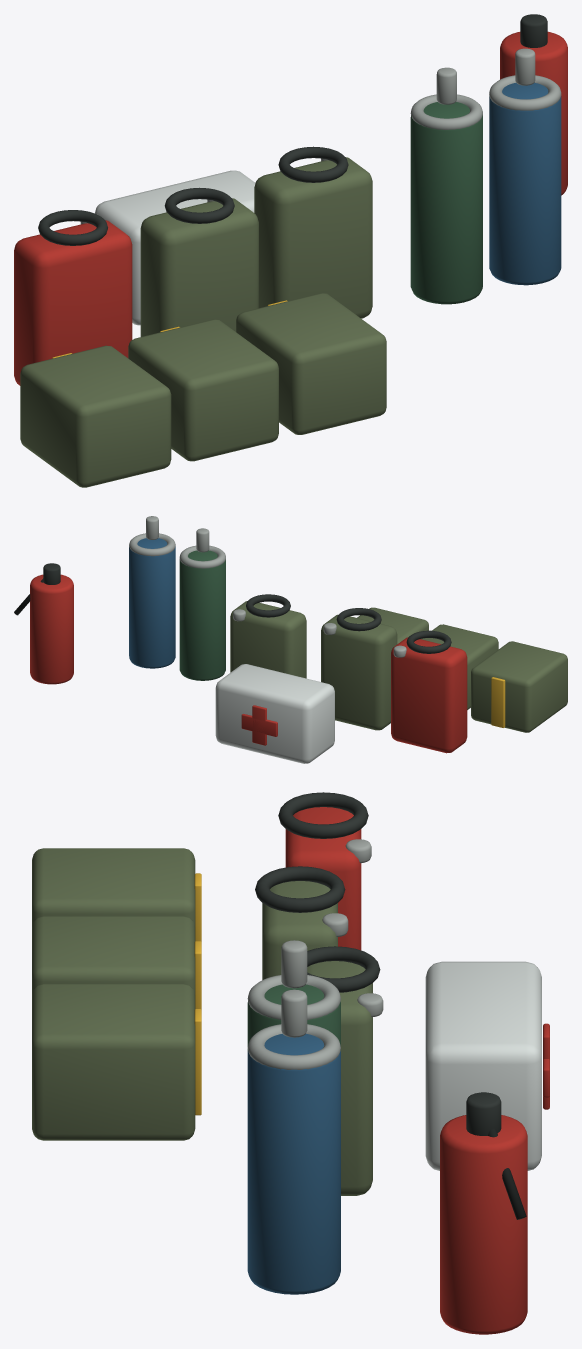
The model's file is survival_clutter_v3.glb.
3 renders of one model, top to bottom at view 1: azimuth 30°, elevation 25°; view 2: azimuth 150°, elevation 25°; view 3: azimuth 270°, elevation 25°, orthographic. The views are drawn at different scales.
Parts seen in each view (by area): view 1: RationCrate_0, JerryCan_2, RationCrate_1, RationCrate_2, JerryCan_0, GasBottle_0, GasBottle_1, JerryCan_1, MedCase, ExtinguisherBody, JerryHandle_2, JerryHandle_1 (+6 smaller); view 2: MedCase, JerryCan_0, JerryCan_1, RationCrate_0, GasBottle_0, GasBottle_1, ExtinguisherBody, JerryCan_2, RationCrate_1, RationCrate_2, RationBand_0, JerryHandle_2 (+7 smaller); view 3: RationCrate_2, GasBottle_1, MedCase, ExtinguisherBody, RationCrate_1, RationCrate_0, JerryCan_2, JerryCan_0, JerryCan_1, JerryHandle_0, JerryHandle_1, GasShoulder_1 (+7 smaller).
Part boxes in pixels (left/top/right/bottom): RationCrate_0: left=20, top=345, right=171, bottom=487; JerryCan_2: left=254, top=157, right=372, bottom=318; RationCrate_1: left=128, top=319, right=278, bottom=461; RationCrate_2: left=236, top=293, right=386, bottom=434; JerryCan_0: left=14, top=220, right=132, bottom=385; GasBottle_0: left=410, top=102, right=482, bottom=304; GasBottle_1: left=489, top=82, right=561, bottom=285; JerryCan_1: left=140, top=198, right=258, bottom=336; MedCase: left=95, top=170, right=255, bottom=325; ExtinguisherBody: left=500, top=31, right=567, bottom=195; JerryHandle_2: left=278, top=146, right=348, bottom=182; JerryHandle_1: left=164, top=187, right=234, bottom=223; MedCase: left=215, top=664, right=334, bottom=763; JerryCan_0: left=391, top=637, right=467, bottom=753; JerryCan_1: left=321, top=614, right=397, bottom=730; RationCrate_0: left=471, top=641, right=567, bottom=732; GasBottle_0: left=179, top=550, right=225, bottom=680; GasBottle_1: left=129, top=538, right=175, bottom=668; ExtinguisherBody: left=30, top=574, right=73, bottom=684; JerryCan_2: left=230, top=601, right=306, bottom=678; RationCrate_1: left=420, top=624, right=498, bottom=709; RationCrate_2: left=357, top=607, right=428, bottom=643; RationBand_0: left=491, top=677, right=505, bottom=727; JerryHandle_2: left=246, top=594, right=290, bottom=617; RationCrate_2: left=32, top=983, right=195, bottom=1140; GasBottle_1: left=247, top=1033, right=340, bottom=1294; MedCase: left=425, top=961, right=541, bottom=1170; ExtinguisherBody: left=440, top=1115, right=527, bottom=1334; RationCrate_1: left=32, top=916, right=195, bottom=994; RationCrate_0: left=32, top=848, right=195, bottom=926; JerryCan_2: left=307, top=961, right=372, bottom=1195; JerryCan_0: left=285, top=807, right=361, bottom=950; JerryCan_1: left=262, top=881, right=337, bottom=979; JerryHandle_0: left=278, top=792, right=368, bottom=838; JerryHandle_1: left=255, top=866, right=345, bottom=912; GasShoulder_1: left=247, top=1024, right=340, bottom=1069.
Bounding box in the file's own units: 3.43 × 1.15 × 1.78.
